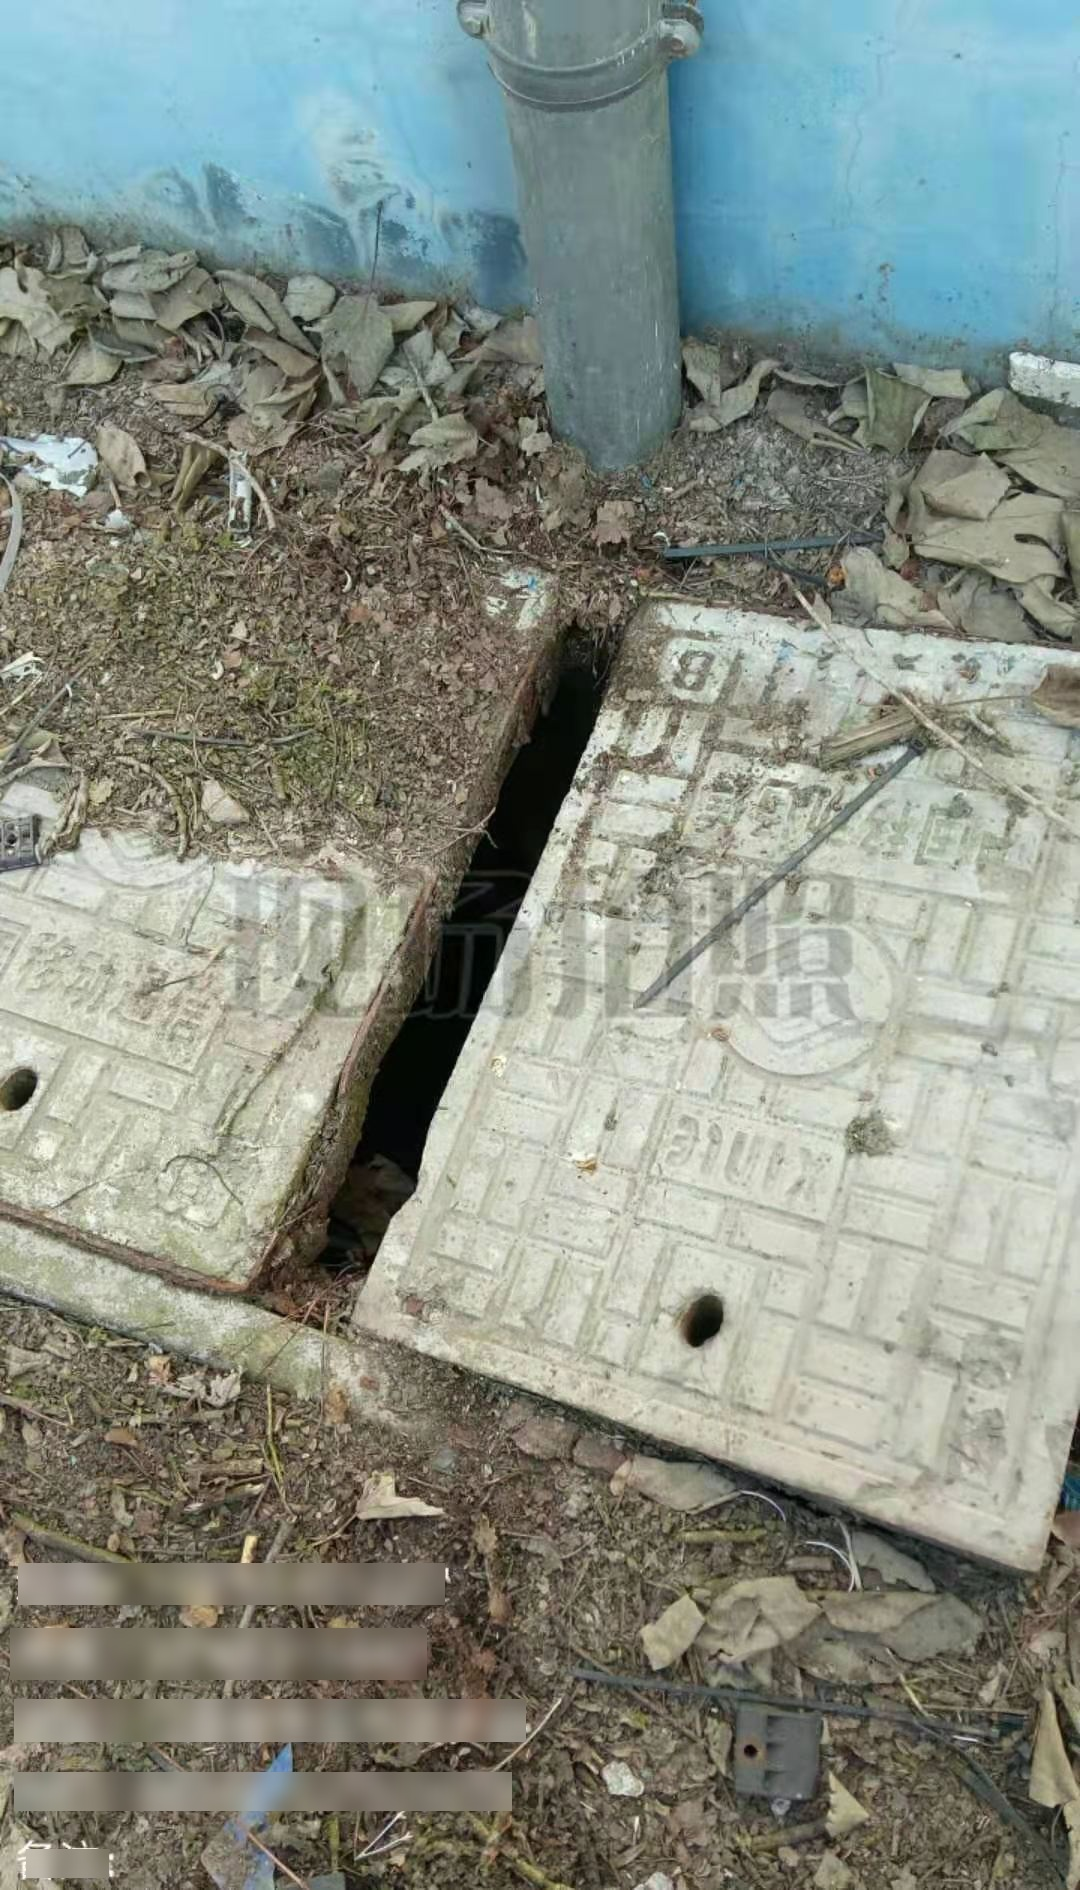uncovered: (5, 546, 1080, 1577)
